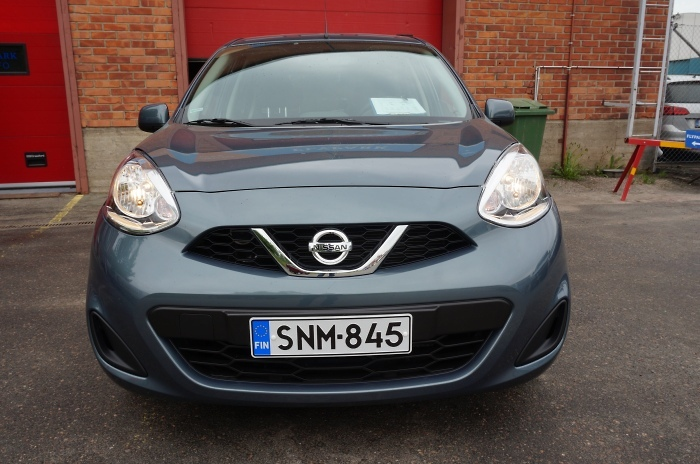license: (250, 313, 413, 360)
